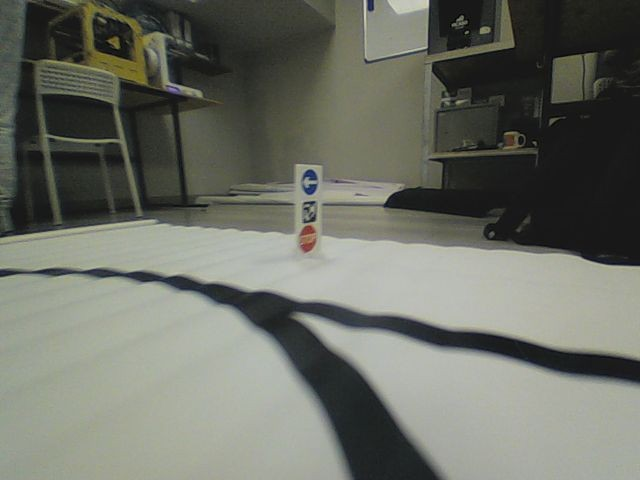Stop: (297, 224, 317, 252)
